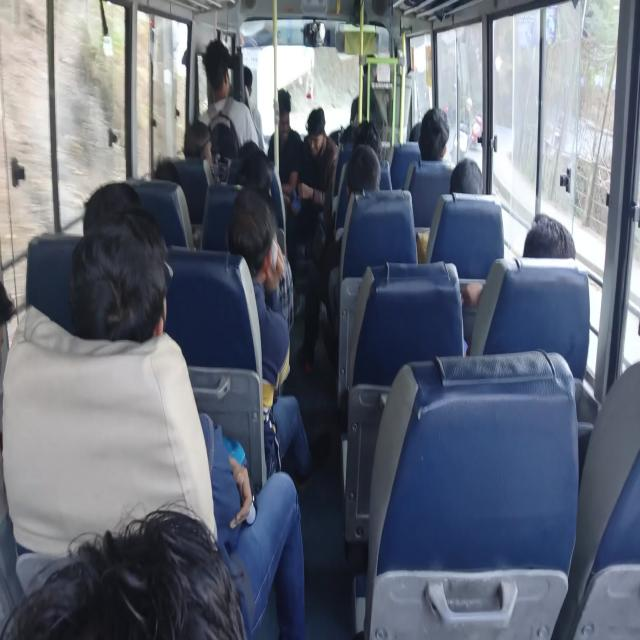person: (70, 503, 234, 640), (62, 225, 176, 382), (452, 152, 515, 226), (224, 197, 275, 274), (344, 152, 396, 216), (233, 148, 281, 213), (534, 200, 578, 262), (72, 192, 121, 245), (208, 48, 246, 102), (181, 121, 217, 175), (237, 128, 273, 169), (298, 111, 327, 156), (145, 151, 171, 192), (424, 107, 443, 153), (351, 110, 375, 144), (272, 86, 288, 132), (242, 63, 260, 98), (364, 125, 384, 156), (404, 126, 426, 144)
